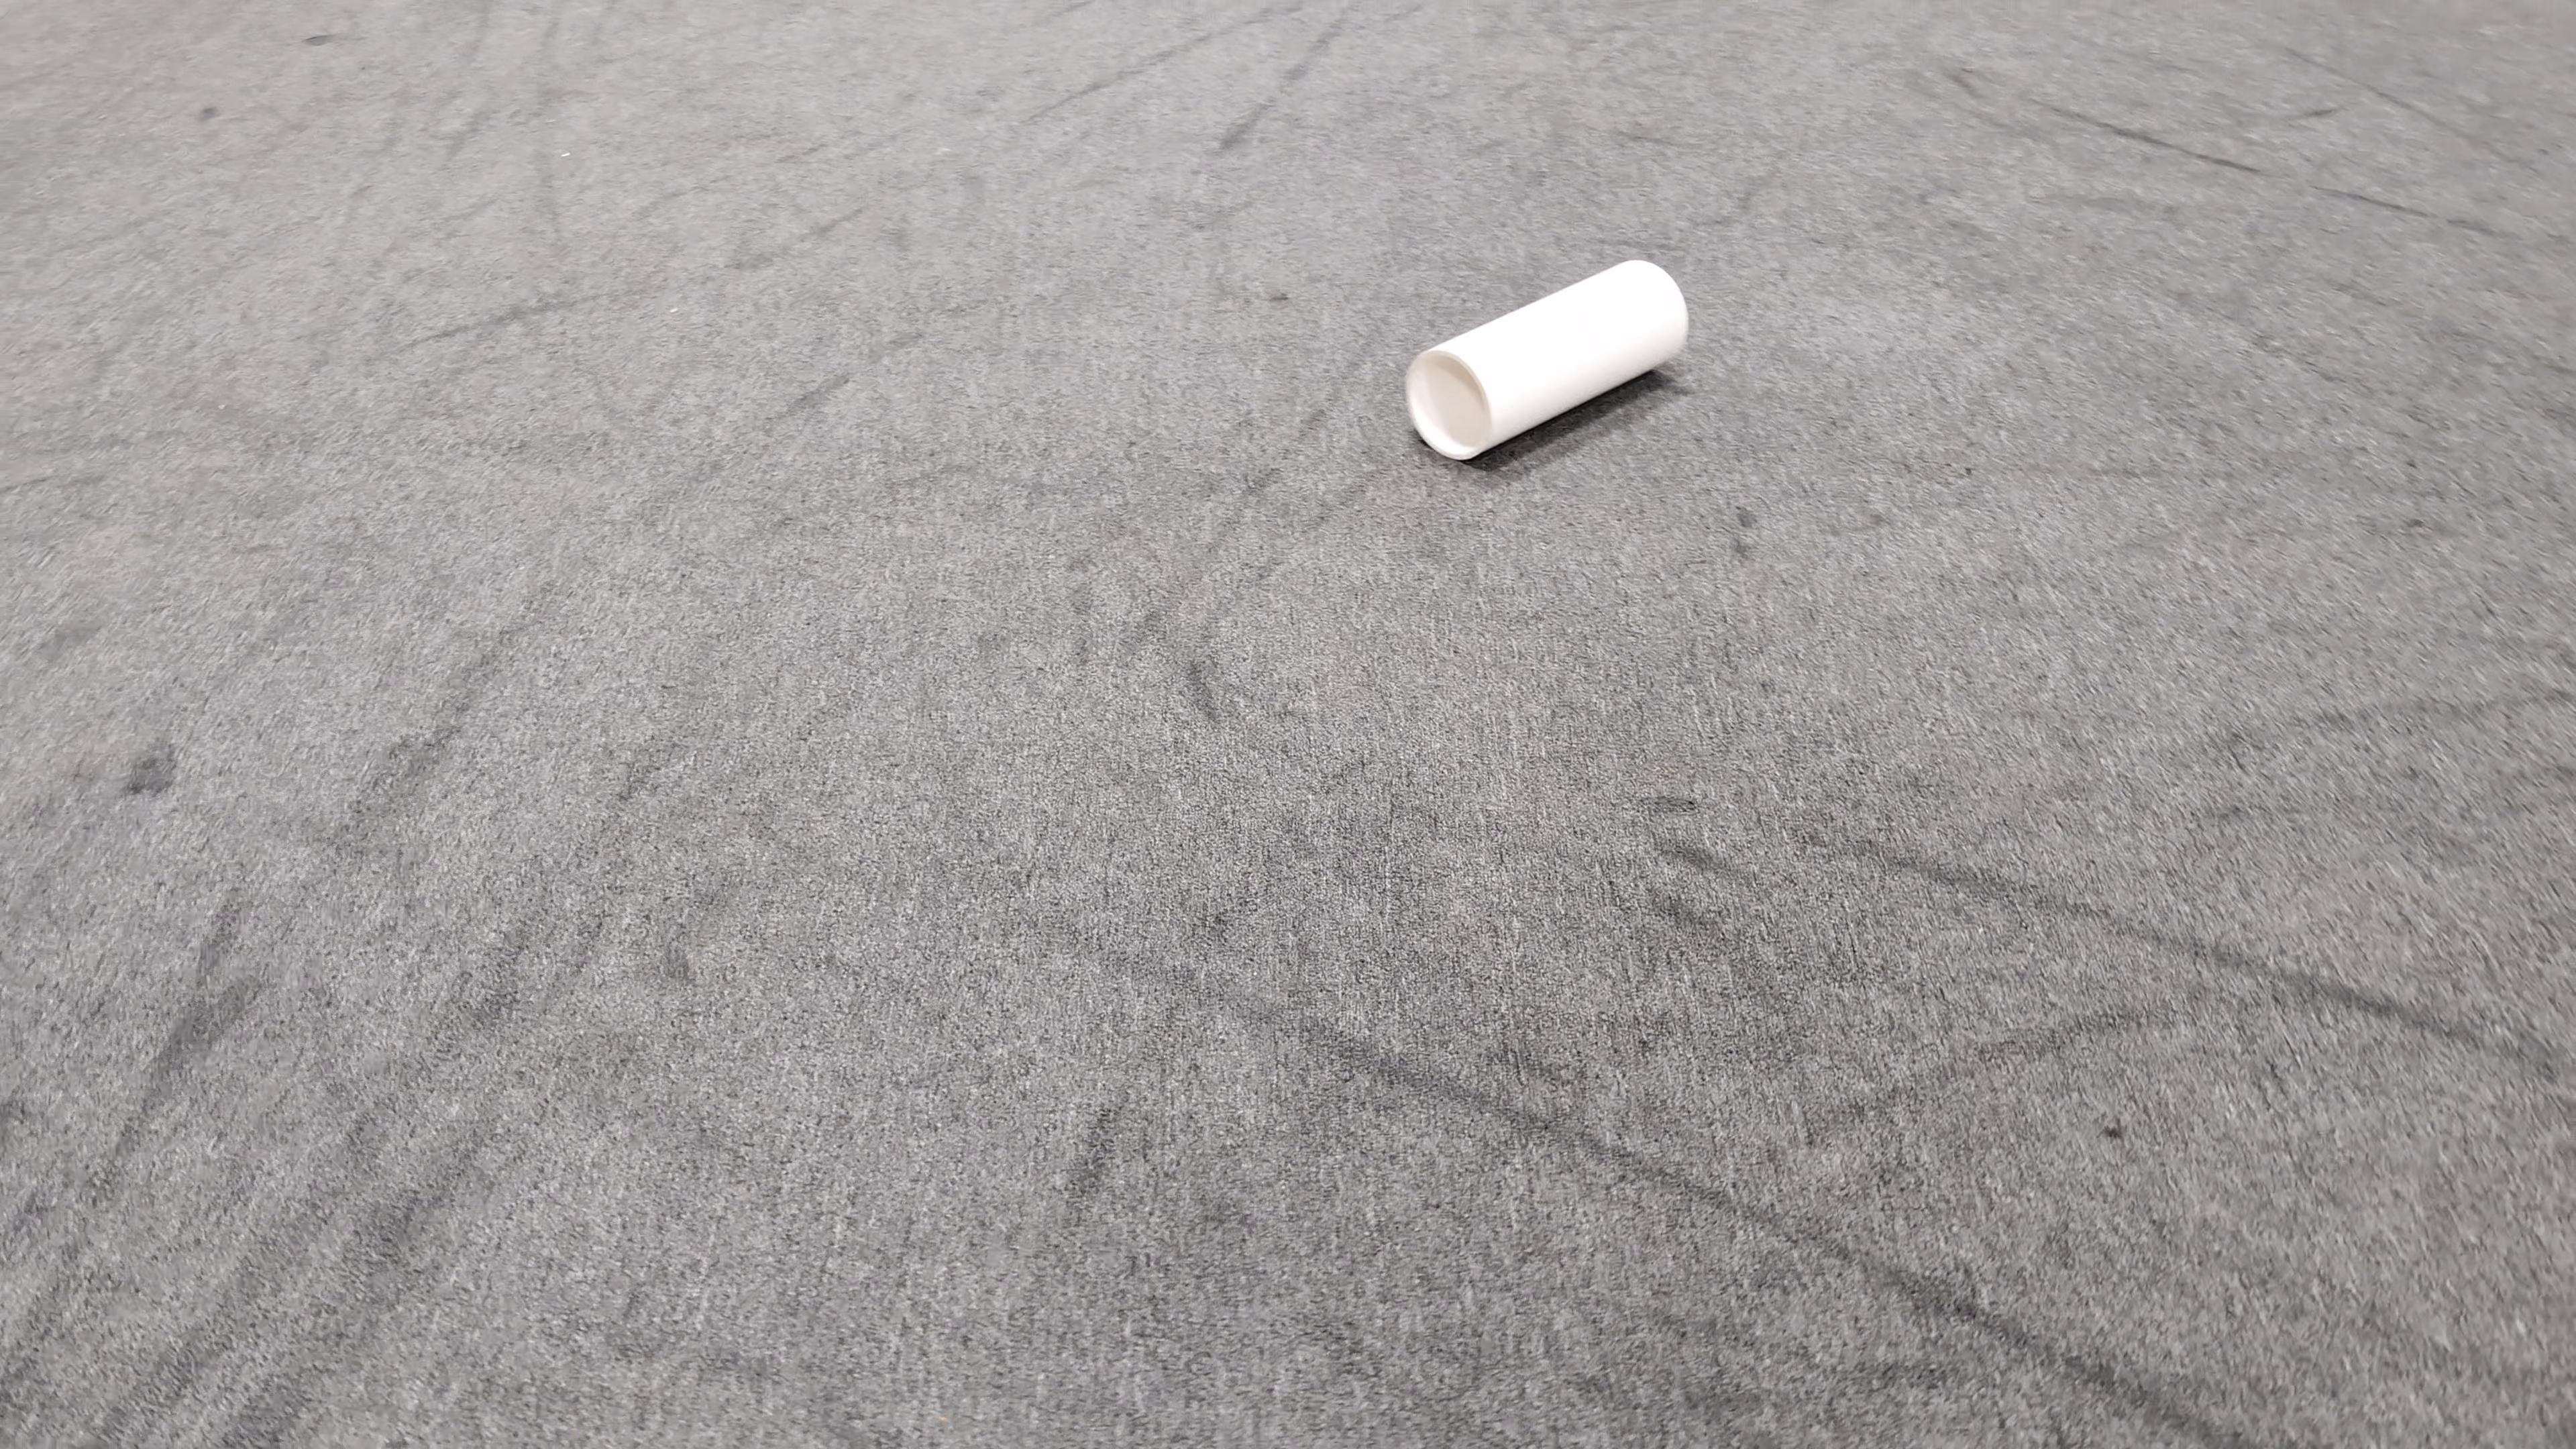coral: (1405, 255, 1691, 460)
